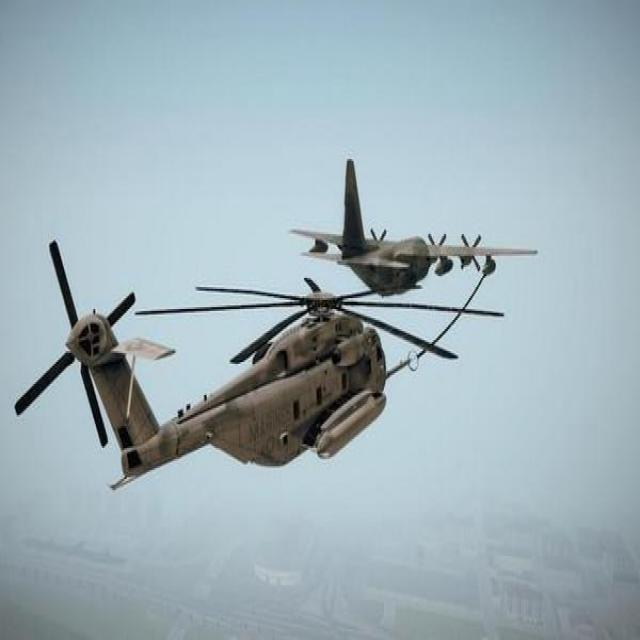MIL_HELO: (6, 215, 443, 512)
